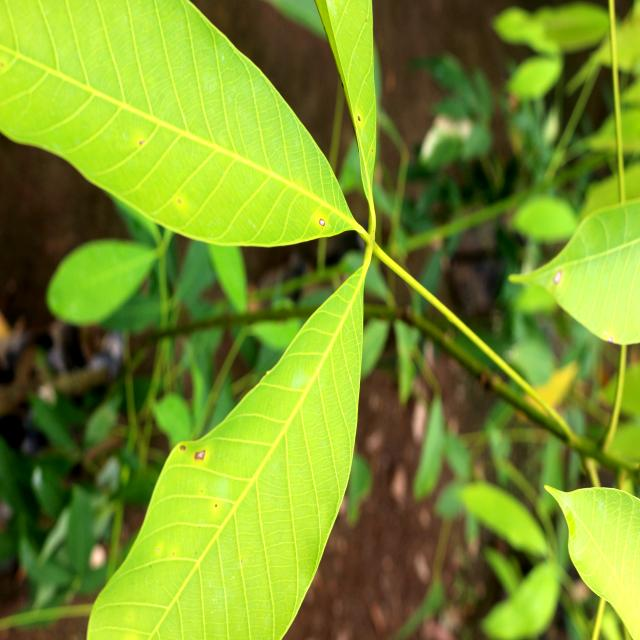Colletotrichum: (195, 450, 205, 460), (319, 219, 325, 226), (358, 116, 360, 121)
